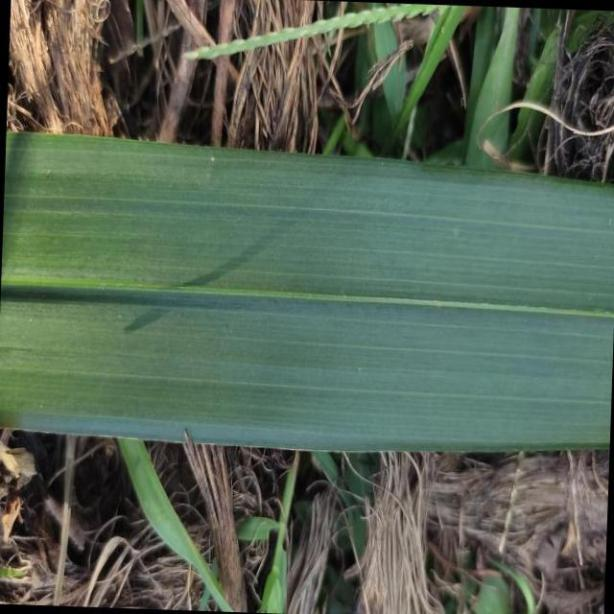Healthy: (3, 129, 614, 451)
